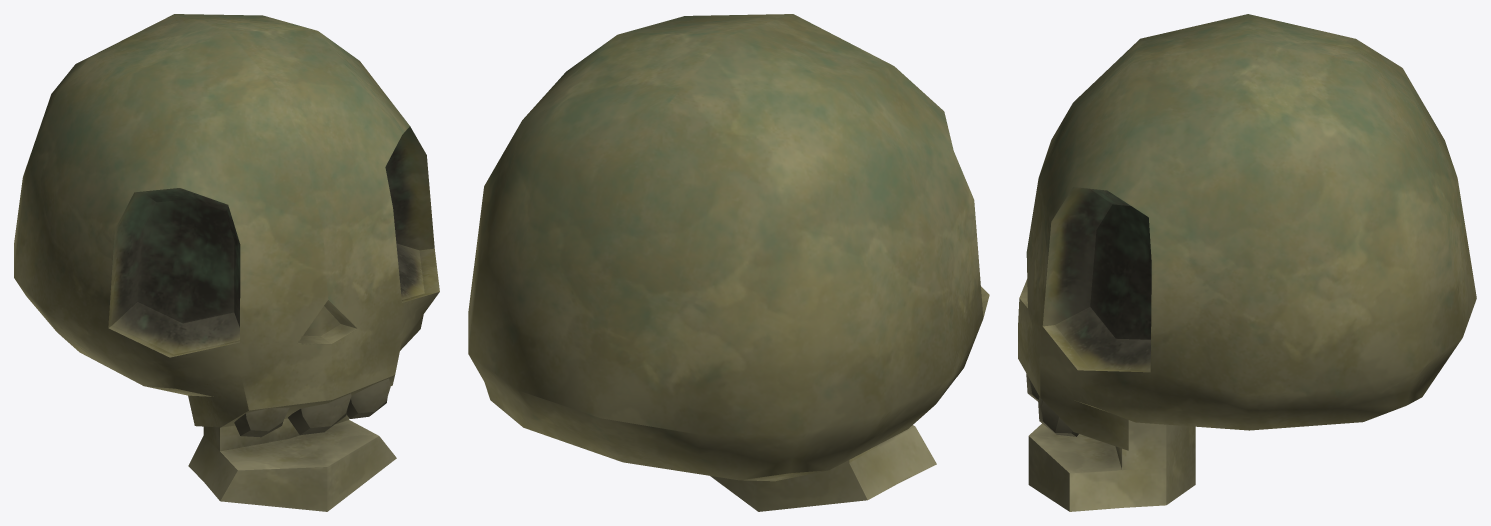
The model's file is skull.glb.
The picture shows the model from 3 angles, left to right: view 1: azimuth 30°, elevation 25°; view 2: azimuth 150°, elevation 25°; view 3: azimuth 270°, elevation 25°; orthographic projection. The views are drawn at different scales.
Visible parts, largest first — view 1: Skull_Cube.094; view 2: Skull_Cube.094; view 3: Skull_Cube.094.
Boxes of the visible parts, x1=… form: Skull_Cube.094: x1=14, y1=14, x2=439, y2=511; Skull_Cube.094: x1=468, y1=14, x2=989, y2=511; Skull_Cube.094: x1=1018, y1=14, x2=1476, y2=511.
Bounding box in the file's own units: 1.46 × 1.56 × 1.46.
Materials: 1 (1 with a texture image).
